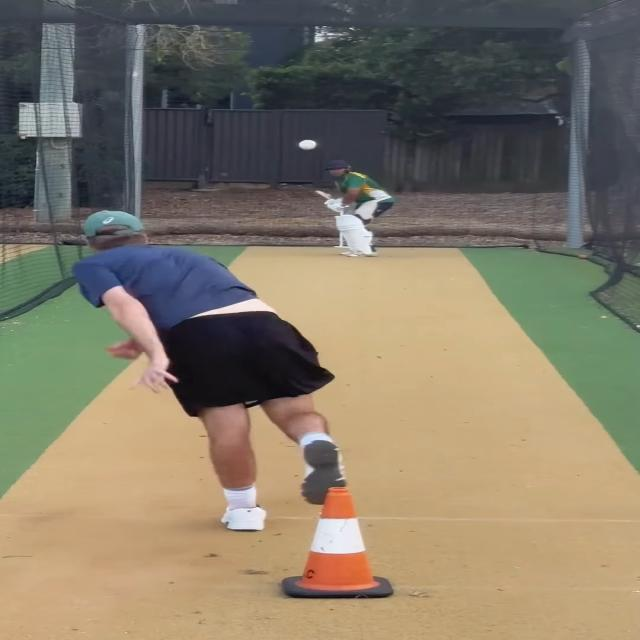Cricket ball: (296, 138, 320, 152)
